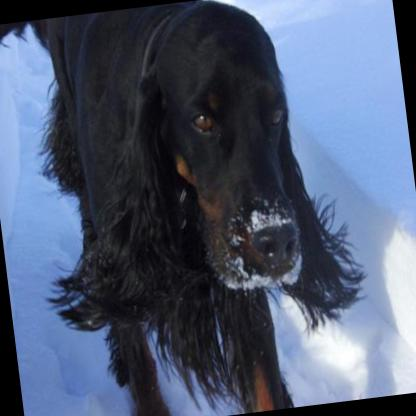Gordon_setter: (0, 0, 379, 416)
